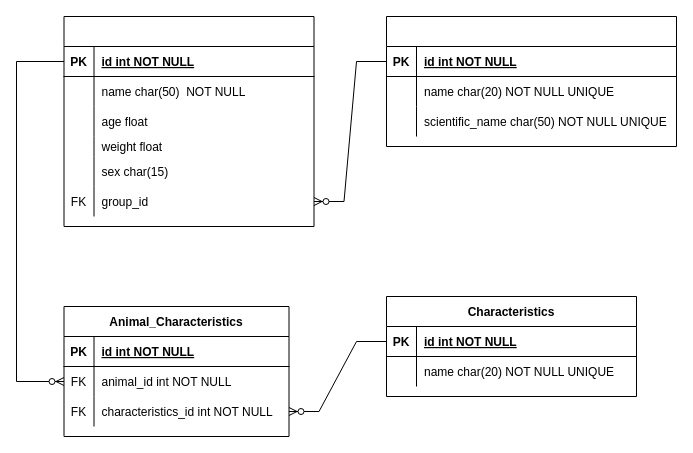
Image size: 693x453. Some labels were removed from this diagram. Each missing label, with the box of its shape:
Animals: (63, 16, 314, 226)
Groups: (386, 16, 676, 146)
